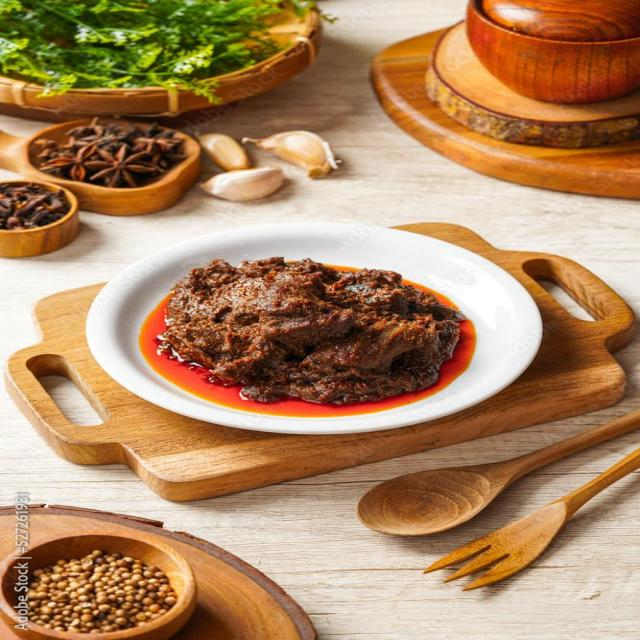Rendang: (138, 247, 478, 417)
